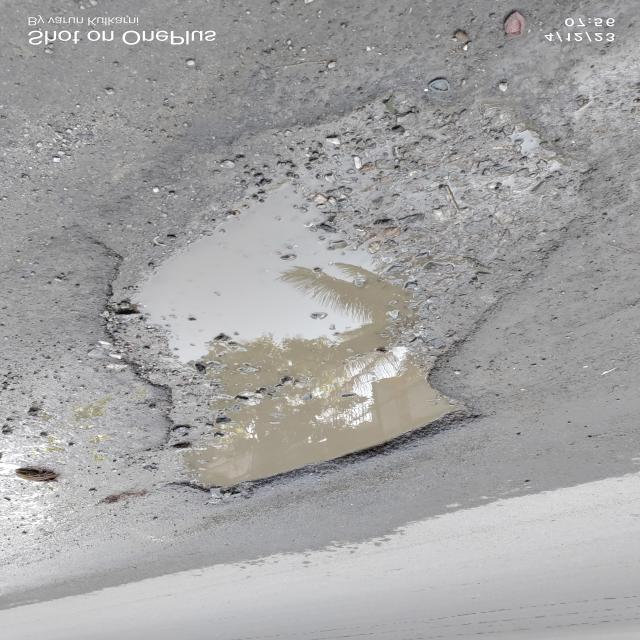Puddle pothole: (111, 119, 491, 486)
